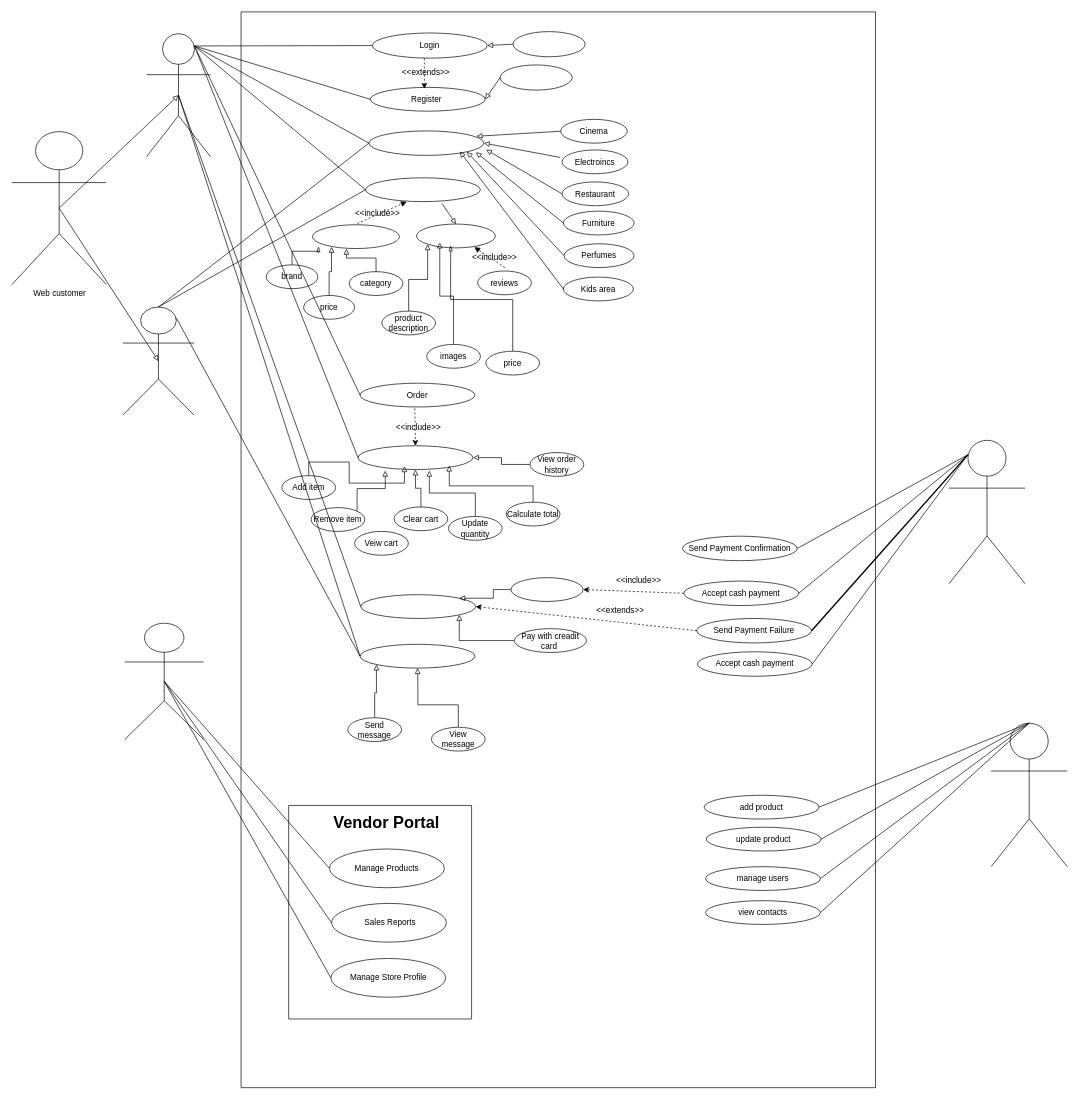
Some shapes in this 1079 by 1100 pixel diagram are drawn without their labels. The shapes that lost their labels are listed below. From the top down, each one's centre as x and y in pixels, then its label:
At pixel 548 44: "Authenticate".
At pixel 178 95: "Registered customer".
At pixel 535 77: "Create account".
At pixel 426 142: "Browse Stores".
At pixel 422 189: "Browse Products".
At pixel 356 236: "Search".
At pixel 455 235: "View Product Details".
At pixel 158 360: "New customer".
At pixel 415 457: "Add to Cart".
At pixel 986 512: "Payment System".
At pixel 418 606: "Make peyment".
At pixel 546 589: "Pay with cash".
At pixel 417 656: "Contact us".
At pixel 164 681: "Vendor".
At pixel 1028 794: "Mall Admin".
